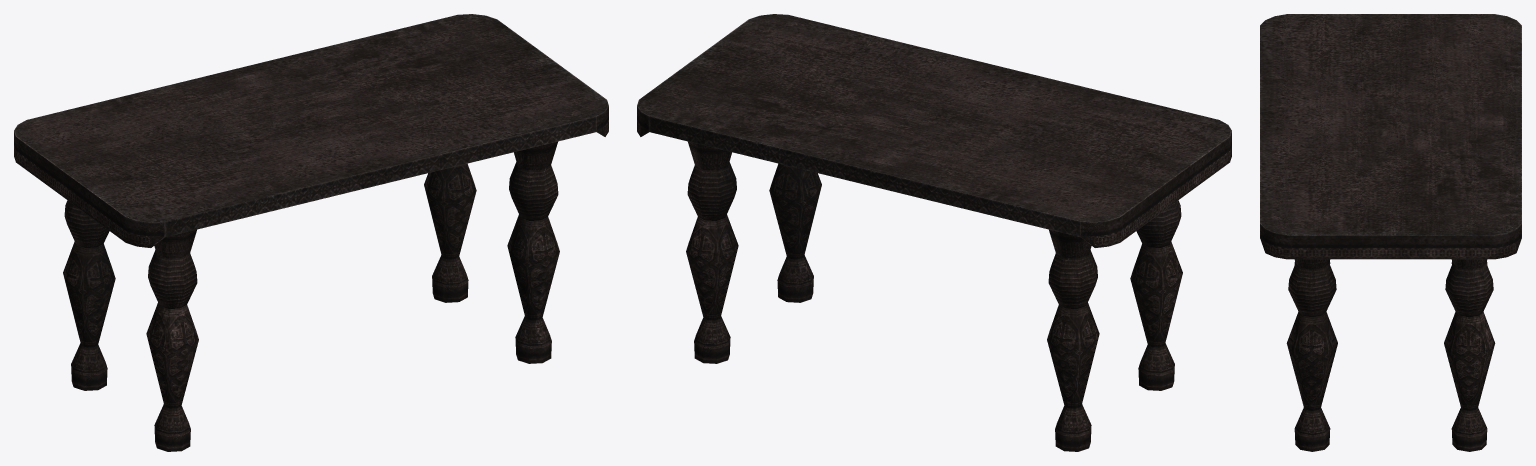
File: table_nice_wood01.dae
3 renders of one model, left to right at view 1: azimuth 30°, elevation 25°; view 2: azimuth 150°, elevation 25°; view 3: azimuth 270°, elevation 25°, orthographic. The views are drawn at different scales.
Parts seen in each view (by area): view 1: Table01; view 2: Table01; view 3: Table01.
Part boxes in pixels (x1=…): Table01: x1=14, y1=14, x2=608, y2=451; Table01: x1=637, y1=14, x2=1231, y2=451; Table01: x1=1260, y1=14, x2=1521, y2=451.
Size of the model in its own units: 2 by 1 by 1.
1 material, 1 textured.
